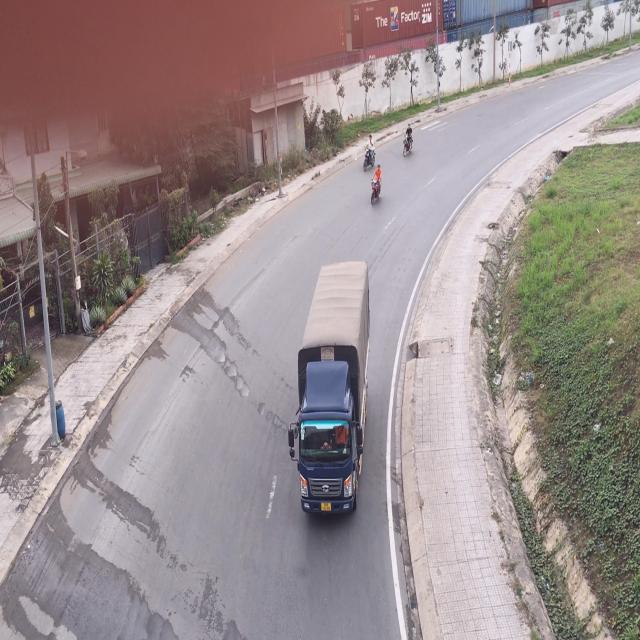motorbike: (366, 160, 382, 212), (404, 123, 416, 159), (362, 138, 374, 172)
truck: (293, 261, 371, 523)
